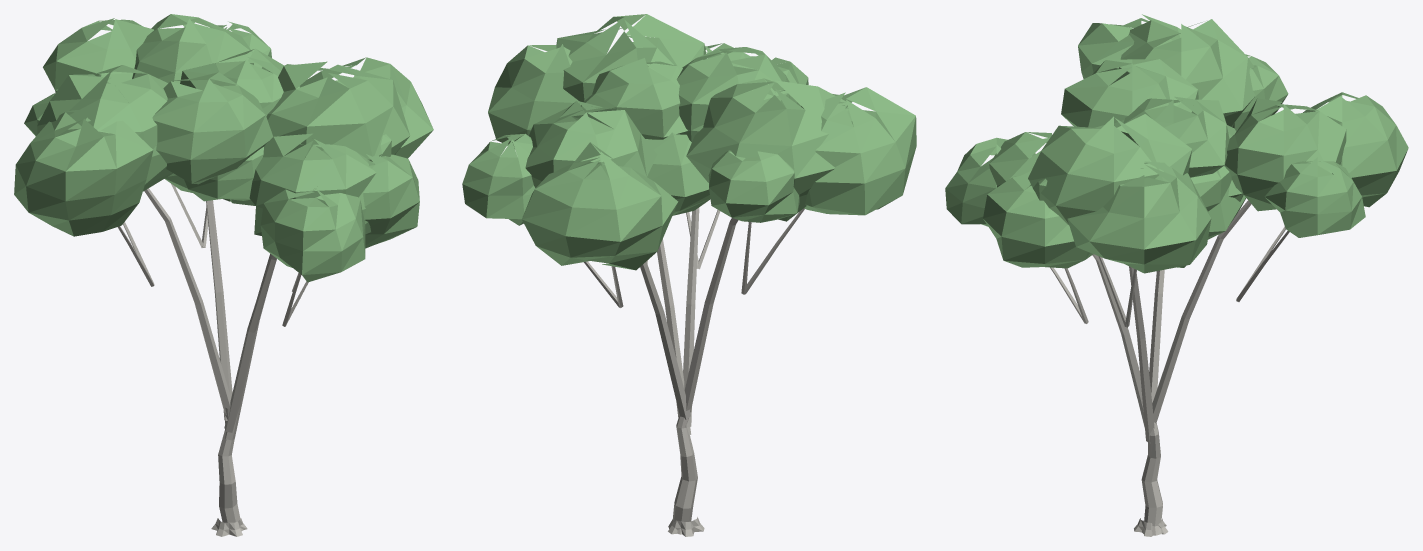
The model's file is mature-sycamore.glb.
3 renders of one model, left to right at view 1: azimuth 30°, elevation 25°; view 2: azimuth 150°, elevation 25°; view 3: azimuth 270°, elevation 25°, orthographic. The views are drawn at different scales.
Parts seen in each view (by area): view 1: sycamore-mature; view 2: sycamore-mature; view 3: sycamore-mature.
Part boxes in pixels (bbox=[...]): sycamore-mature: bbox=[14, 14, 433, 536]; sycamore-mature: bbox=[462, 14, 916, 536]; sycamore-mature: bbox=[945, 14, 1408, 536].
Size of the model in its own units: 18.66 by 21.21 by 19.4.
